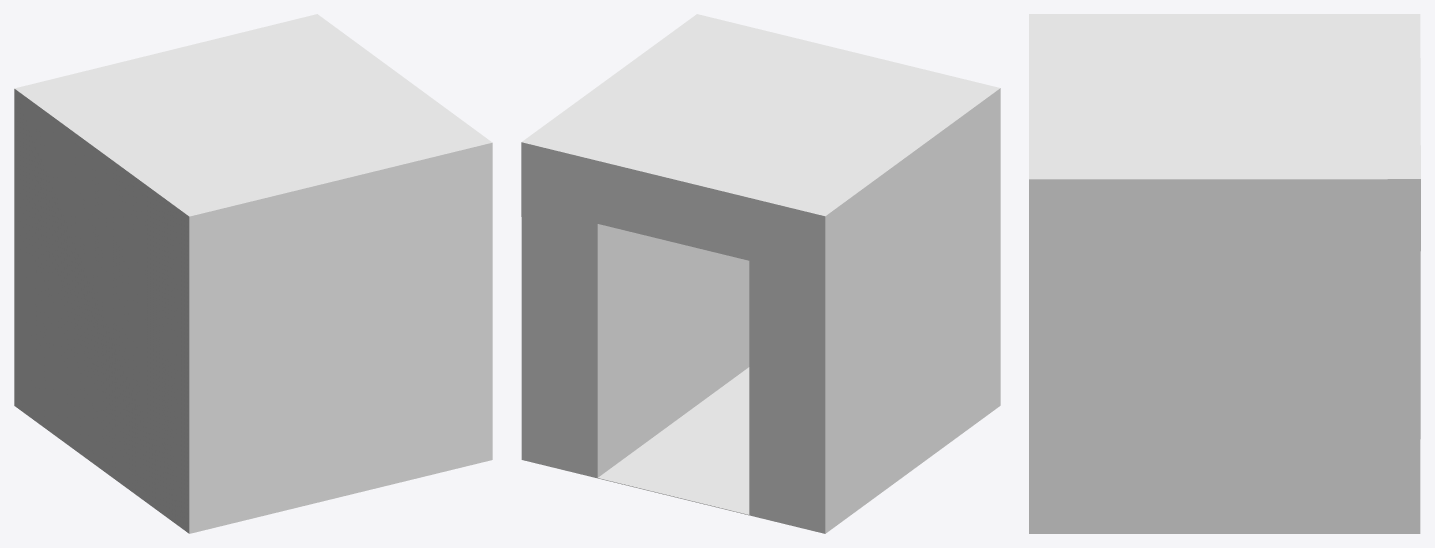
The model's file is elevetor.obj.
3 renders of one model, left to right at view 1: azimuth 30°, elevation 25°; view 2: azimuth 150°, elevation 25°; view 3: azimuth 270°, elevation 25°, orthographic. The views are drawn at different scales.
Visible parts, largest first — view 1: Cube; view 2: Cube; view 3: Cube.
Part boxes in pixels (box(x1,y1,x2,y2)): Cube: box(14, 14, 492, 533); Cube: box(521, 14, 1000, 533); Cube: box(1029, 14, 1420, 533).
Bounding box in the file's own units: 2 × 2 × 2.
Materials: 1 (1 with a texture image).
